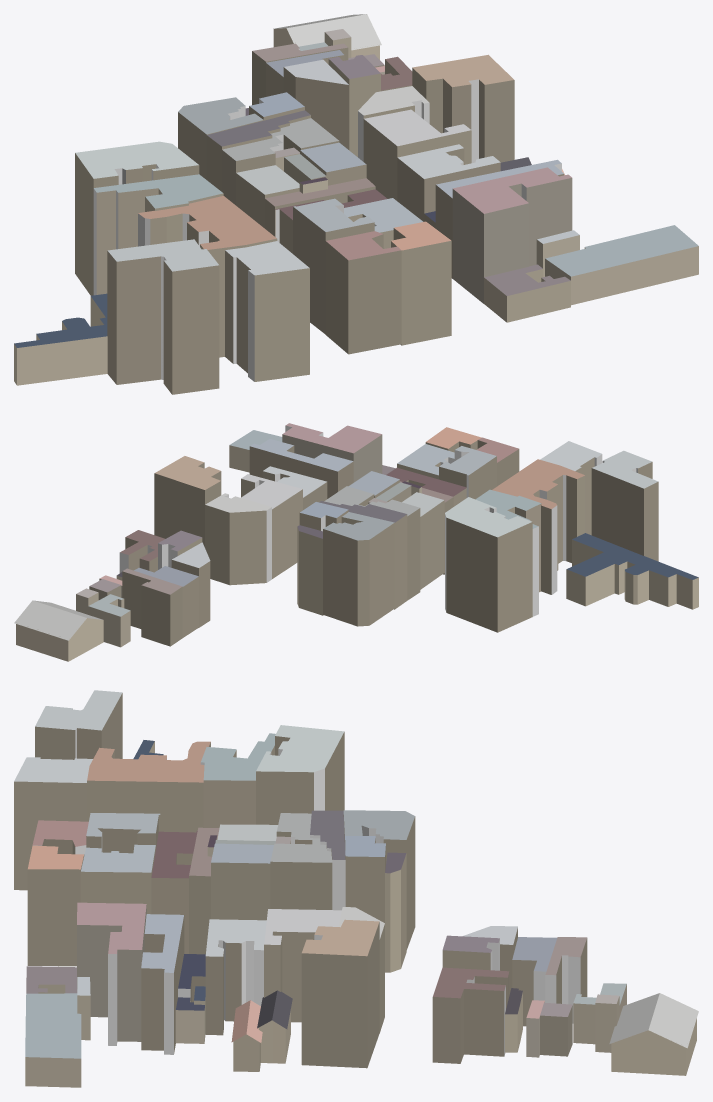
3 views of the same model, one above another, from view 1: azimuth 30°, elevation 25°; view 2: azimuth 150°, elevation 25°; view 3: azimuth 270°, elevation 25° (orthographic). The views are drawn at different scales.
Parts seen in each view (by area): view 1: tuile; view 2: tuile; view 3: tuile.
Boxes of the visible parts, x1,y1,x2,y2 form: tuile: [14, 14, 698, 394]; tuile: [14, 423, 698, 661]; tuile: [14, 690, 698, 1087].
Size of the model in its own units: 151 by 28.81 by 140.
